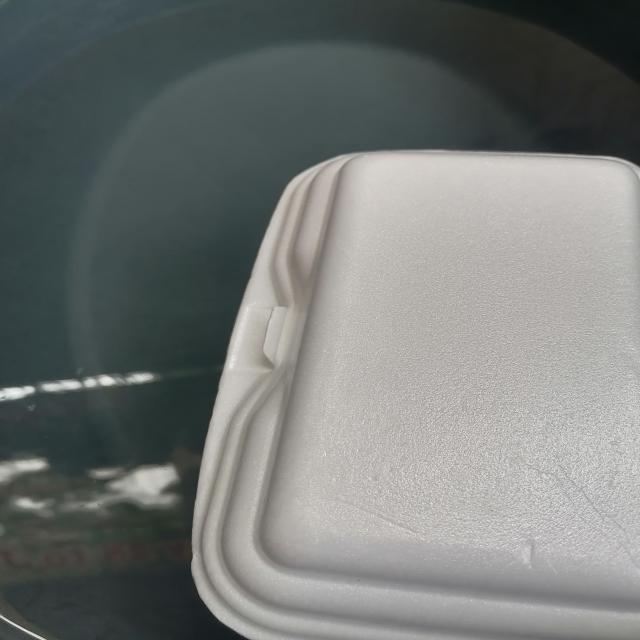Styrofoam Container: (192, 151, 640, 640)
